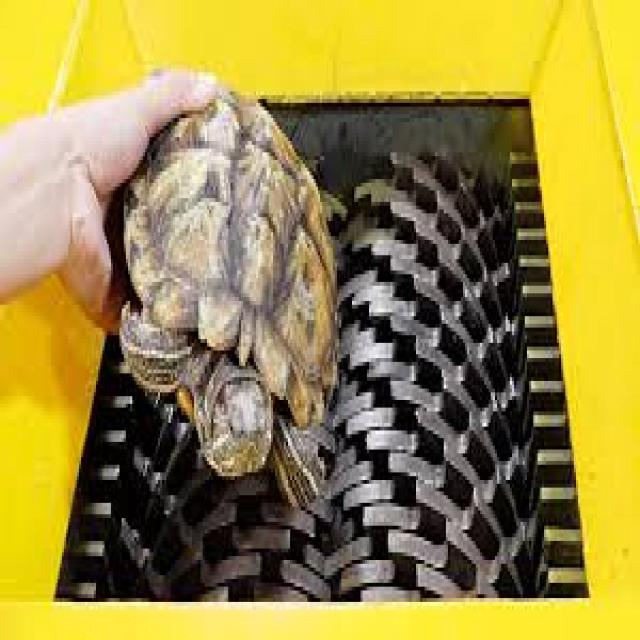Sea turtle: (118, 52, 350, 529)
